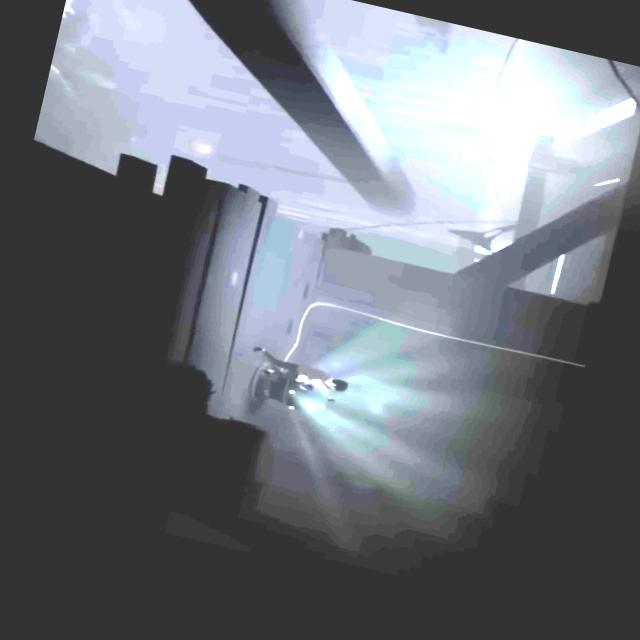boy: (245, 348, 352, 402)
